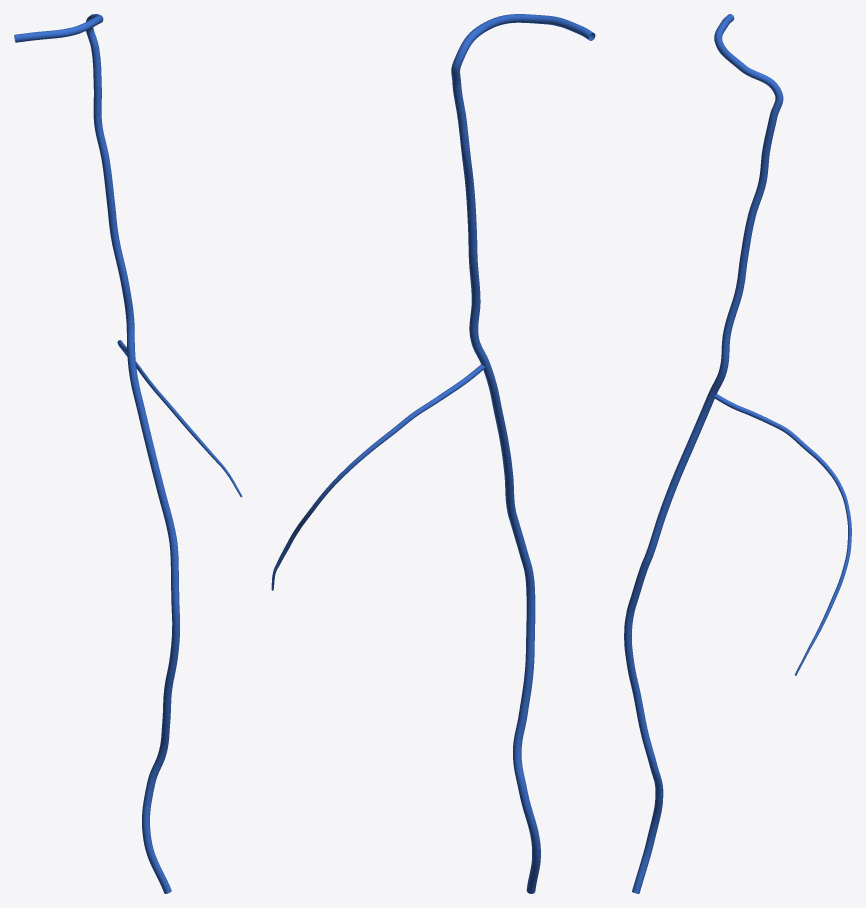
File: circulatorio-hemi-azygos-vein.glb
The picture shows the model from 3 angles, left to right: view 1: azimuth 30°, elevation 25°; view 2: azimuth 150°, elevation 25°; view 3: azimuth 270°, elevation 25°; orthographic projection. The views are drawn at different scales.
Parts seen in each view (by area): view 1: Left ascending lumbar vein, Hemi-azygos vein, Left subcostal vein; view 2: Left ascending lumbar vein, Hemi-azygos vein, Left subcostal vein; view 3: Left ascending lumbar vein, Hemi-azygos vein, Left subcostal vein.
Boxes of the visible parts, <box> form: Left ascending lumbar vein: <box>126,320,179,893</box>; Hemi-azygos vein: <box>14,14,134,320</box>; Left subcostal vein: <box>117,340,242,497</box>; Left ascending lumbar vein: <box>470,338,540,893</box>; Hemi-azygos vein: <box>451,14,595,340</box>; Left subcostal vein: <box>271,364,485,590</box>; Left ascending lumbar vein: <box>624,369,726,893</box>; Hemi-azygos vein: <box>714,14,783,371</box>; Left subcostal vein: <box>714,394,851,675</box>.
Bounding box in the file's own units: 0.0896 × 0.2778 × 0.069.
